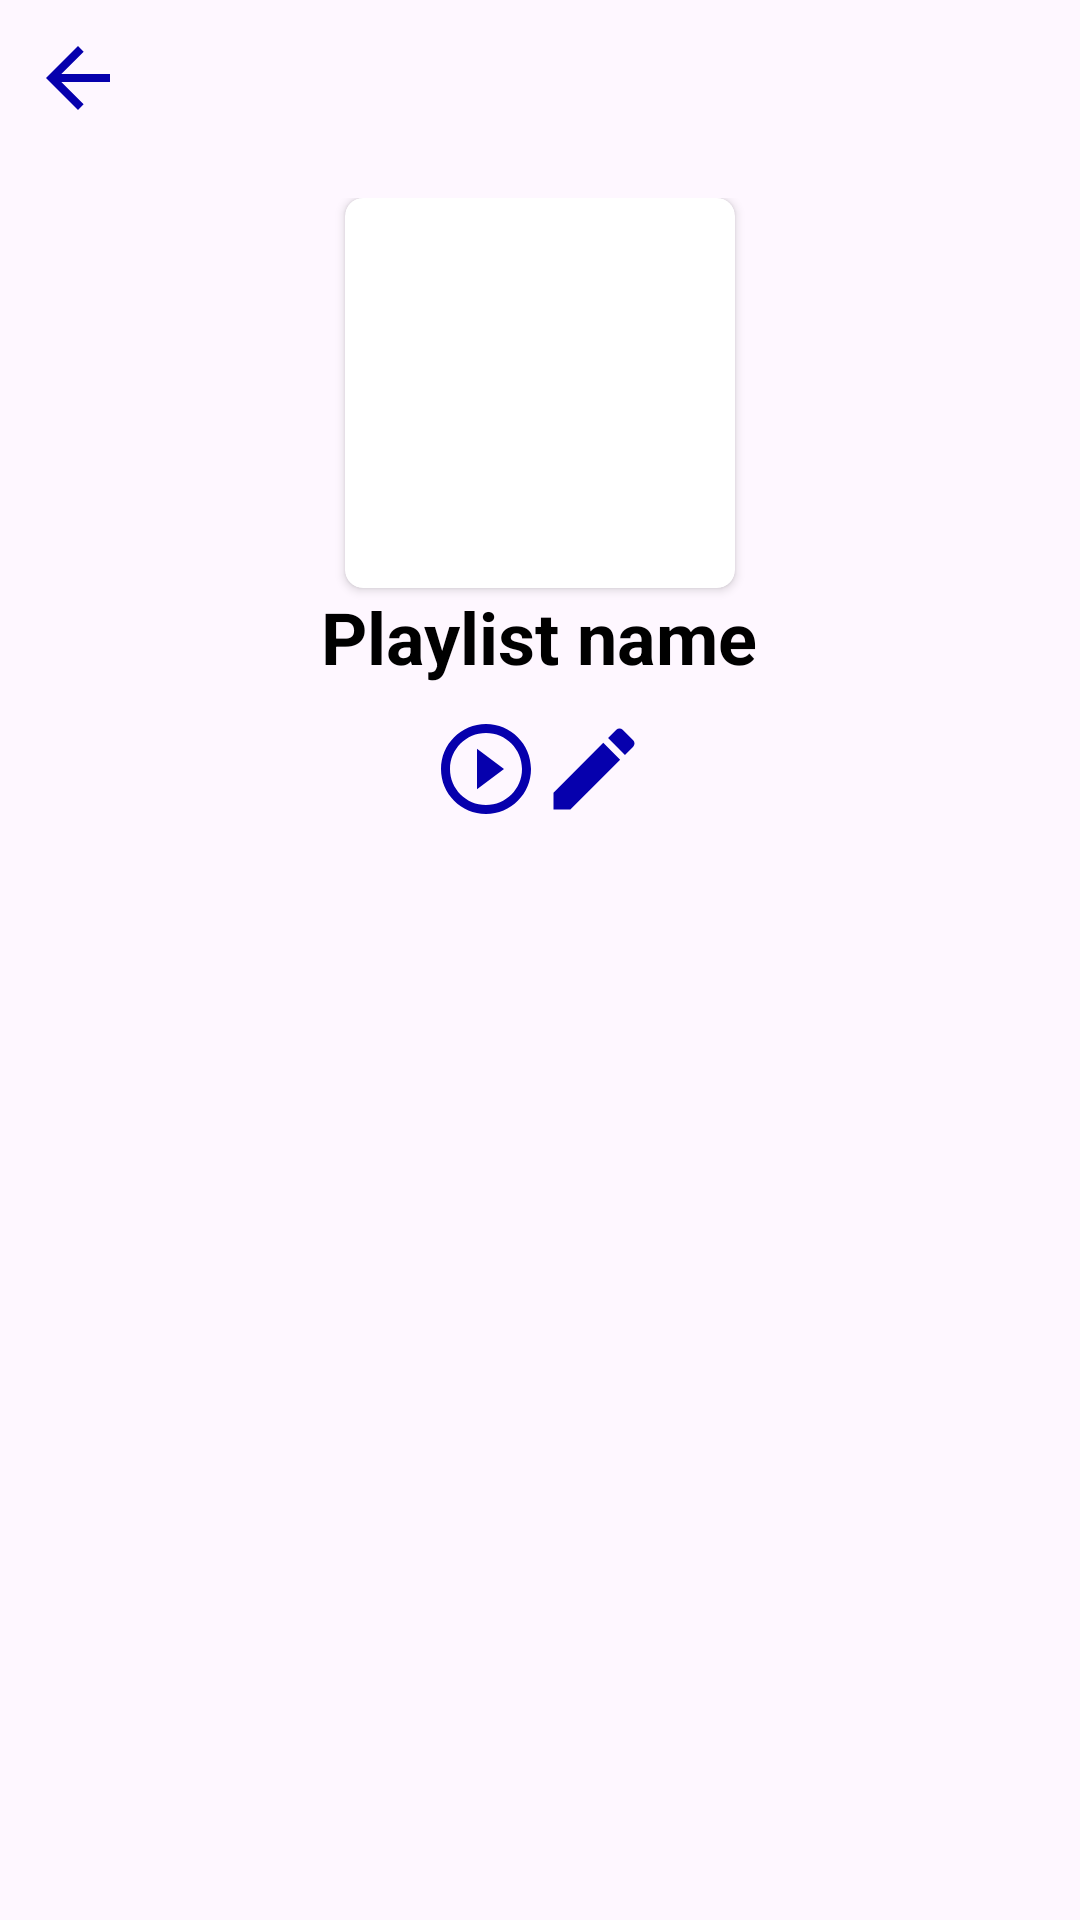

Icon bounding boxes for this 1080px x 1920px phone screenshot, format (x1, y1, x2, y2):
arrow back: (46, 46, 110, 110)
edit: (553, 728, 635, 810)
play circle: (441, 724, 531, 814)
